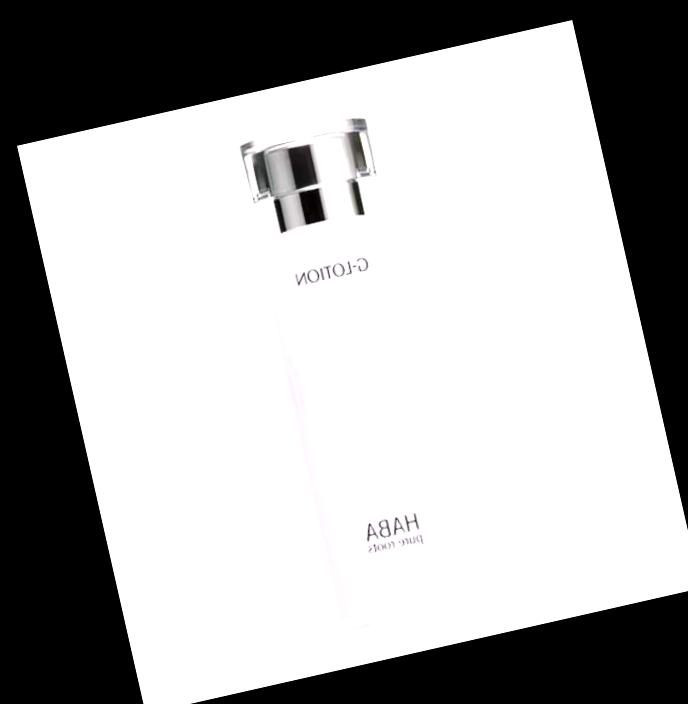cosmetic: (229, 113, 480, 632)
